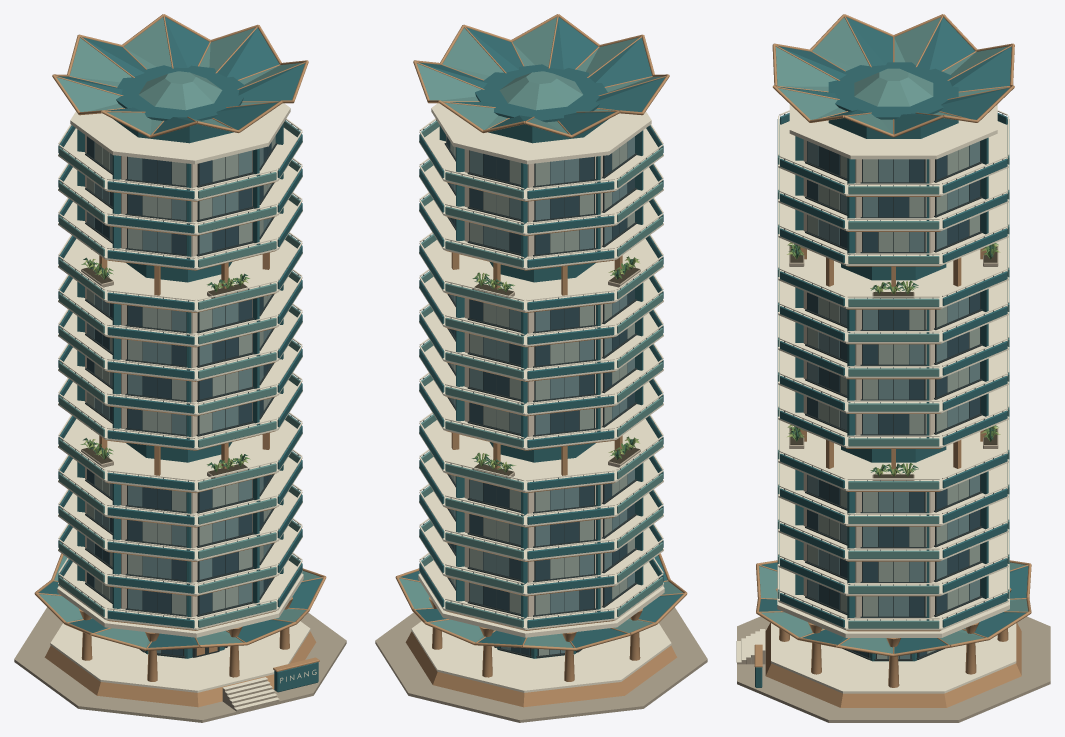
The picture shows the model from 3 angles, left to right: view 1: azimuth 30°, elevation 25°; view 2: azimuth 150°, elevation 25°; view 3: azimuth 270°, elevation 25°; orthographic projection.
Visible parts, largest first — view 1: Projecting sun decks, Casements and sills, Faceted dwelling drum, Folded parasol crowns, Entrance stair, Garden beds, Pandan planting; view 2: Projecting sun decks, Casements and sills, Faceted dwelling drum, Folded parasol crowns, Pandan planting, Garden beds; view 3: Projecting sun decks, Casements and sills, Faceted dwelling drum, Folded parasol crowns, Pandan planting, Garden beds, Entrance stair.
Boxes of the visible parts, box(x1,y1,x2,y2) form: Projecting sun decks: box(58, 103, 302, 630); Casements and sills: box(85, 136, 277, 658); Faceted dwelling drum: box(14, 65, 346, 722); Folded parasol crowns: box(34, 14, 326, 650); Entrance stair: box(222, 677, 279, 711); Garden beds: box(81, 267, 249, 478); Pandan planting: box(80, 257, 250, 472); Projecting sun decks: box(419, 103, 663, 630); Casements and sills: box(444, 136, 636, 658); Faceted dwelling drum: box(375, 64, 707, 722); Folded parasol crowns: box(395, 14, 687, 650); Pandan planting: box(472, 256, 639, 472); Garden beds: box(472, 267, 640, 478); Projecting sun decks: box(777, 104, 1009, 631); Casements and sills: box(805, 141, 982, 660); Faceted dwelling drum: box(737, 62, 1050, 722); Folded parasol crowns: box(756, 14, 1031, 656); Pandan planting: box(787, 242, 1000, 476); Garden beds: box(789, 246, 998, 480); Entrance stair: box(736, 629, 765, 664).
Size of the model in its own units: 23.98 by 49.95 by 24.02.
